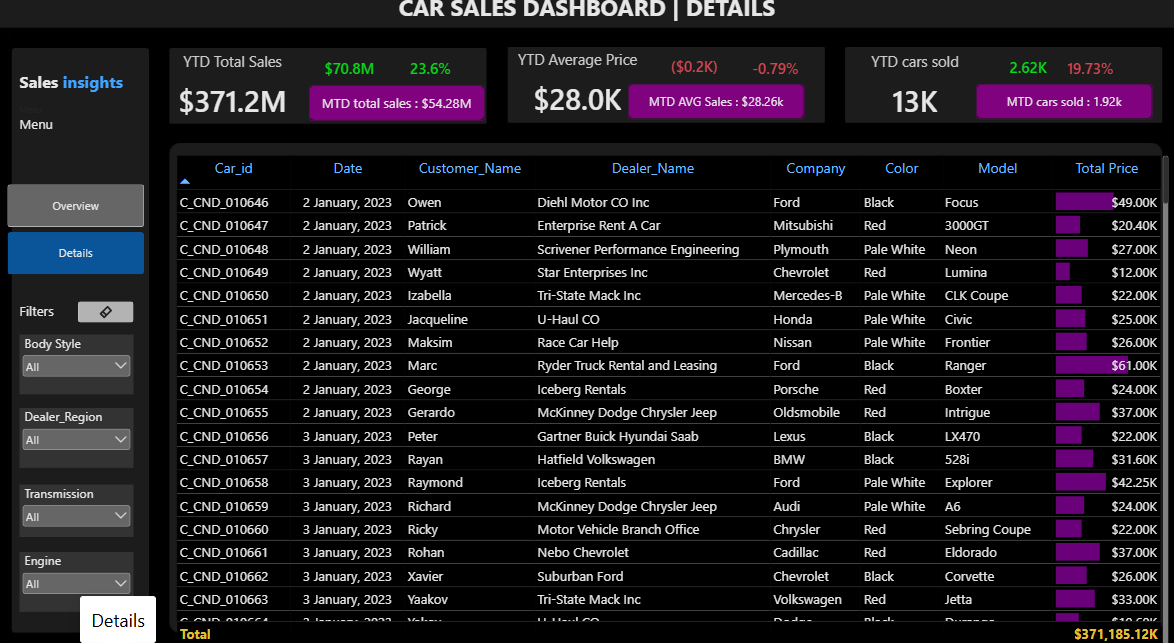

The page's visual inventory and layout, read from the dashboard file:
{"tool":"powerbi","page":{"name":"Details","canvas":[1920,1080],"ordinal":1},"visuals":[{"type":"cardVisual","title":"YTD Total Sales","fields":{"Data":["car_data.YTD Total sales"]},"box":[255.3,97.8,253.9,111],"z":0},{"type":"cardVisual","fields":{"Data":["car_data.Sales difference"]},"box":[508.2,97.8,131.2,54.9],"z":1000},{"type":"cardVisual","fields":{"Data":["car_data.YOY sales growth"]},"box":[639.4,97.8,131.2,54.9],"z":2000},{"type":"cardVisual","fields":{"Data":["car_data.MTD kpi"]},"box":[508.2,152.7,286.3,57.3],"z":3000},{"type":"cardVisual","title":"YTD Average Price","fields":{"Data":["car_data.YTD Average Price"]},"box":[816,95.4,253.9,111],"z":4000},{"type":"cardVisual","fields":{"Data":["car_data.Avg Price Difference"]},"box":[1068.9,95.4,131.2,54.9],"z":5000},{"type":"cardVisual","fields":{"Data":["car_data.YOY average Price growth"]},"box":[1200.1,97.8,131.2,54.9],"z":6000},{"type":"cardVisual","fields":{"Data":["car_data.MTD avg kpi"]},"box":[1025.9,150.3,286.3,57.3],"z":7000},{"type":"cardVisual","title":"YTD cars sold","fields":{"Data":["car_data.YTD cars sold"]},"box":[1364.7,97.8,253.9,111],"z":8000},{"type":"cardVisual","fields":{"Data":["car_data.cars sold difference"]},"box":[1617.7,97.8,119.3,52.5],"z":9000},{"type":"cardVisual","fields":{"Data":["car_data.yoy cars sold growth"]},"box":[1713.1,97.8,131.2,54.9],"z":10000},{"type":"cardVisual","fields":{"Data":["car_data.MTD carsssold kpi"]},"box":[1593.8,150.3,286.3,57.3],"z":11000},{"type":"textbox","box":[537.5,0,845,70],"z":12000},{"type":"slicer","fields":{"Values":["car_data.Body_Style"]},"box":[37.5,557.5,185,97.5],"z":13000},{"type":"slicer","fields":{"Values":["car_data.Dealer_Region"]},"box":[37.5,677.5,185,97.5],"z":14000},{"type":"slicer","fields":{"Values":["car_data.Transmission"]},"box":[37.5,802.5,185,85],"z":15000},{"type":"slicer","fields":{"Values":["car_data.Engine"]},"box":[37.5,912.5,185,97.5],"z":16000},{"type":"textbox","box":[37.5,505,92.5,52.5],"z":17000},{"type":"tableEx","fields":{"Values":["car_data.Car_id","car_data.Date","car_data.Customer_Name","car_data.Dealer_Name","car_data.Company","car_data.Color","car_data.Model","Sum(car_data.Price)"]},"box":[275.6,253.7,1645,825],"z":18000},{"type":"textbox","box":[37.5,182.5,152.5,72.5],"z":19000},{"type":"textbox","box":[37.5,130,185,52.5],"z":20000},{"type":"pageNavigator","box":[17.5,315,222.5,147.5],"z":21000},{"type":"actionButton","box":[131.7,504.9,90.2,34.1],"z":21001}]}

Visuals, with their boxes on the page's 1920x1080 design canvas (x1, y1, x2, y2). These are canvas units, not pixel positions in the 1174x643 screenshot, which may show the page scaled, cropped or inside an application window:
"YTD Total Sales" cardVisual: 255 98 509 209
cardVisual - car_data.Sales difference: 508 98 639 153
cardVisual - car_data.YOY sales growth: 639 98 771 153
cardVisual - car_data.MTD kpi: 508 153 794 210
"YTD Average Price" cardVisual: 816 95 1070 206
cardVisual - car_data.Avg Price Difference: 1069 95 1200 150
cardVisual - car_data.YOY average Price growth: 1200 98 1331 153
cardVisual - car_data.MTD avg kpi: 1026 150 1312 208
"YTD cars sold" cardVisual: 1365 98 1619 209
cardVisual - car_data.cars sold difference: 1618 98 1737 150
cardVisual - car_data.yoy cars sold growth: 1713 98 1844 153
cardVisual - car_data.MTD carsssold kpi: 1594 150 1880 208
textbox: 538 0 1382 70
slicer - car_data.Body_Style: 38 558 222 655
slicer - car_data.Dealer_Region: 38 678 222 775
slicer - car_data.Transmission: 38 802 222 888
slicer - car_data.Engine: 38 912 222 1010
textbox: 38 505 130 558
tableEx - car_data.Car_id x car_data.Date: 276 254 1921 1079
textbox: 38 182 190 255
textbox: 38 130 222 182
pageNavigator: 18 315 240 462
actionButton: 132 505 222 539
